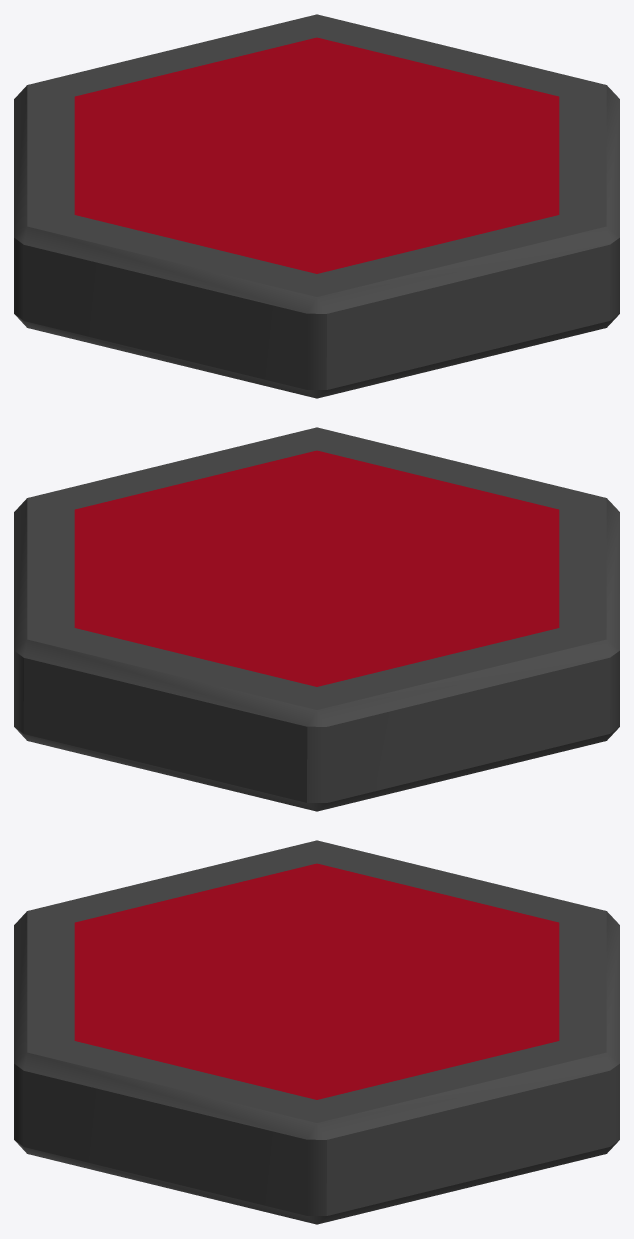
Rendered from objectivehex.fbx.
The picture shows the model from 3 angles, top to bottom: view 1: azimuth 30°, elevation 25°; view 2: azimuth 150°, elevation 25°; view 3: azimuth 270°, elevation 25°; orthographic projection.
Visible parts, largest first — view 1: objectivehex; view 2: objectivehex; view 3: objectivehex.
Part boxes in pixels (x1,y1,x2,y2): objectivehex: (14,14,619,398); objectivehex: (14,427,619,811); objectivehex: (14,840,619,1224).
Bounding box in the file's own units: 1.97 × 0.32 × 1.73.
